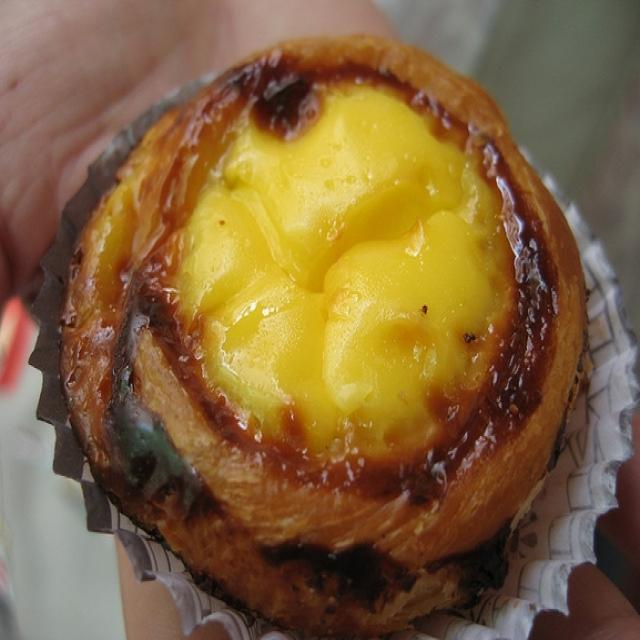炸货点心: (30, 27, 609, 620)
蛋糕甜品: (30, 27, 609, 620)
